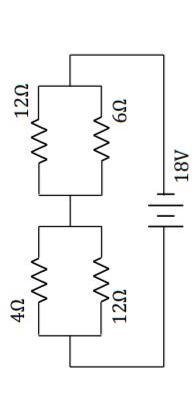Battery: (134, 184, 189, 236)
